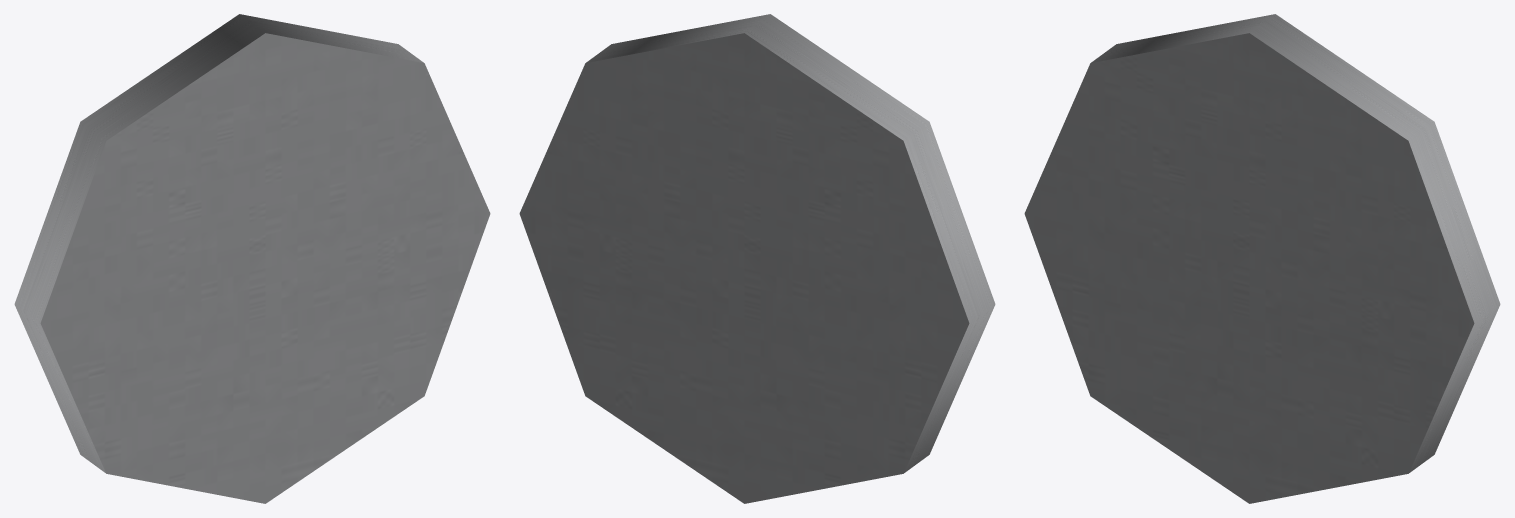
File: front.obj
The picture shows the model from 3 angles, left to right: view 1: azimuth 30°, elevation 25°; view 2: azimuth 150°, elevation 25°; view 3: azimuth 330°, elevation 25°; orthographic projection.
Visible parts, largest first — view 1: toon_train.005; view 2: toon_train.005; view 3: toon_train.005.
Part boxes in pixels (left/top/right/bottom): toon_train.005: left=14, top=14, right=490, bottom=503; toon_train.005: left=519, top=14, right=995, bottom=503; toon_train.005: left=1024, top=14, right=1500, bottom=503.
Bounding box in the file's own units: 1.12 × 1.12 × 0.1126.
Materials: 1 (1 with a texture image).
